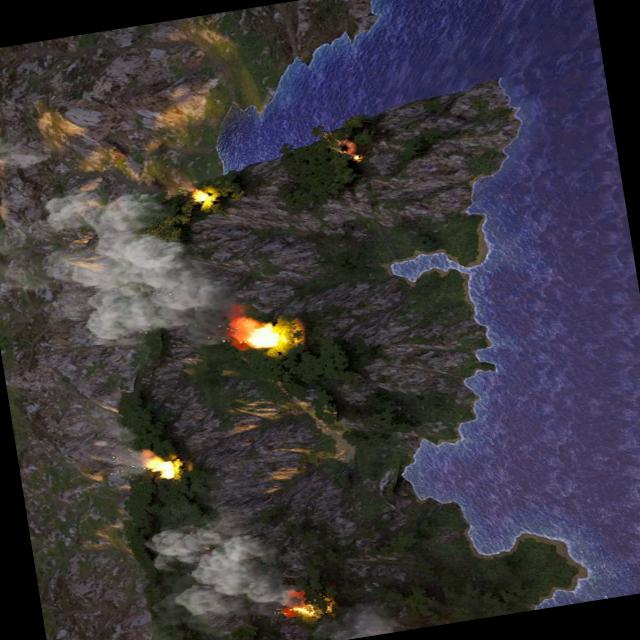fire: (231, 311, 284, 354), (280, 585, 330, 622), (142, 444, 181, 482), (339, 134, 365, 162), (189, 185, 217, 207)
smoke: (34, 169, 236, 367), (148, 510, 296, 634)
